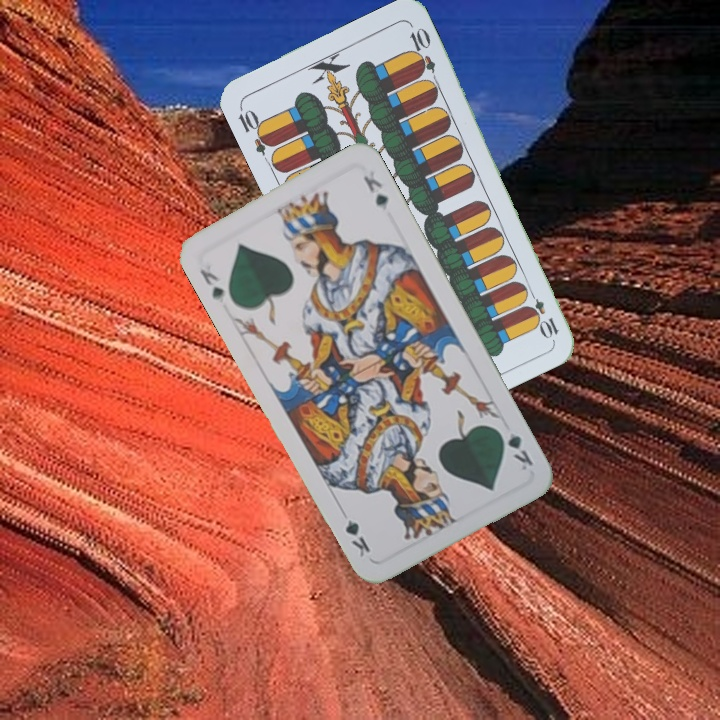E10: (234, 102, 277, 157), (523, 285, 561, 341)
GK: (493, 424, 536, 473), (196, 265, 228, 306)
